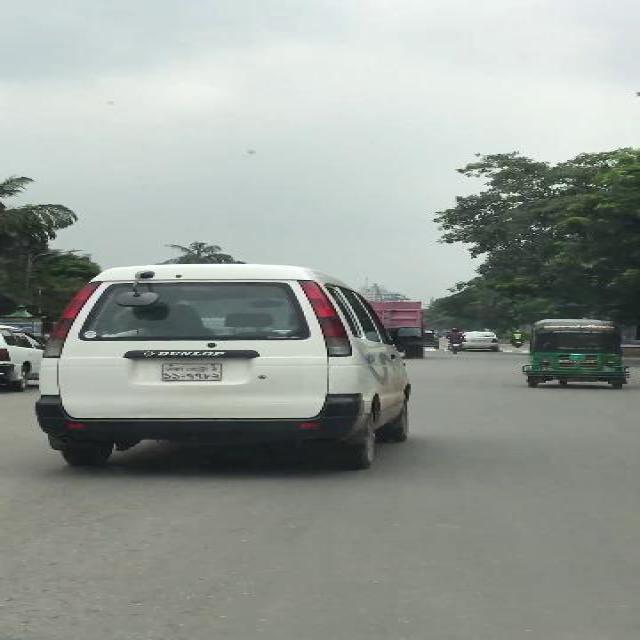bike: (444, 328, 465, 355), (510, 331, 524, 350)
vehicle: (39, 263, 366, 472), (522, 317, 632, 392), (1, 323, 42, 393), (369, 301, 426, 332), (465, 332, 501, 352), (423, 331, 439, 350)
